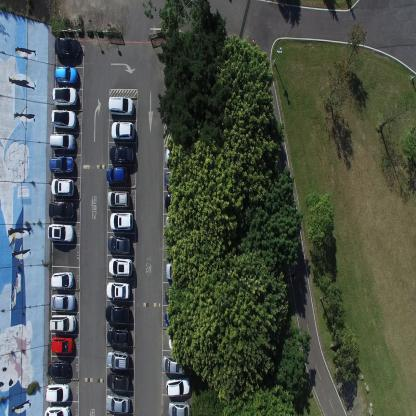car: (54, 36, 81, 59), (107, 95, 134, 118), (50, 107, 77, 130), (47, 222, 75, 244), (164, 306, 190, 328), (165, 376, 191, 398), (109, 144, 135, 166), (44, 382, 70, 404), (51, 86, 78, 106), (48, 200, 76, 219), (162, 353, 186, 375), (110, 120, 135, 141), (108, 257, 133, 278), (49, 132, 75, 152), (107, 370, 130, 392), (106, 348, 129, 370), (164, 191, 188, 212), (166, 239, 190, 260), (106, 326, 130, 347), (105, 304, 129, 325), (109, 210, 133, 231), (167, 331, 192, 351), (54, 64, 79, 84), (49, 155, 74, 175), (50, 292, 76, 311), (49, 314, 76, 332), (107, 235, 130, 256), (165, 214, 189, 234), (106, 392, 130, 412), (106, 280, 130, 300), (50, 334, 74, 354), (164, 262, 190, 280), (164, 146, 187, 166), (51, 178, 74, 198), (47, 359, 71, 378), (164, 285, 189, 303), (164, 170, 187, 189), (50, 270, 74, 288), (106, 166, 128, 185), (107, 190, 130, 208), (167, 400, 191, 416), (44, 404, 70, 415)
